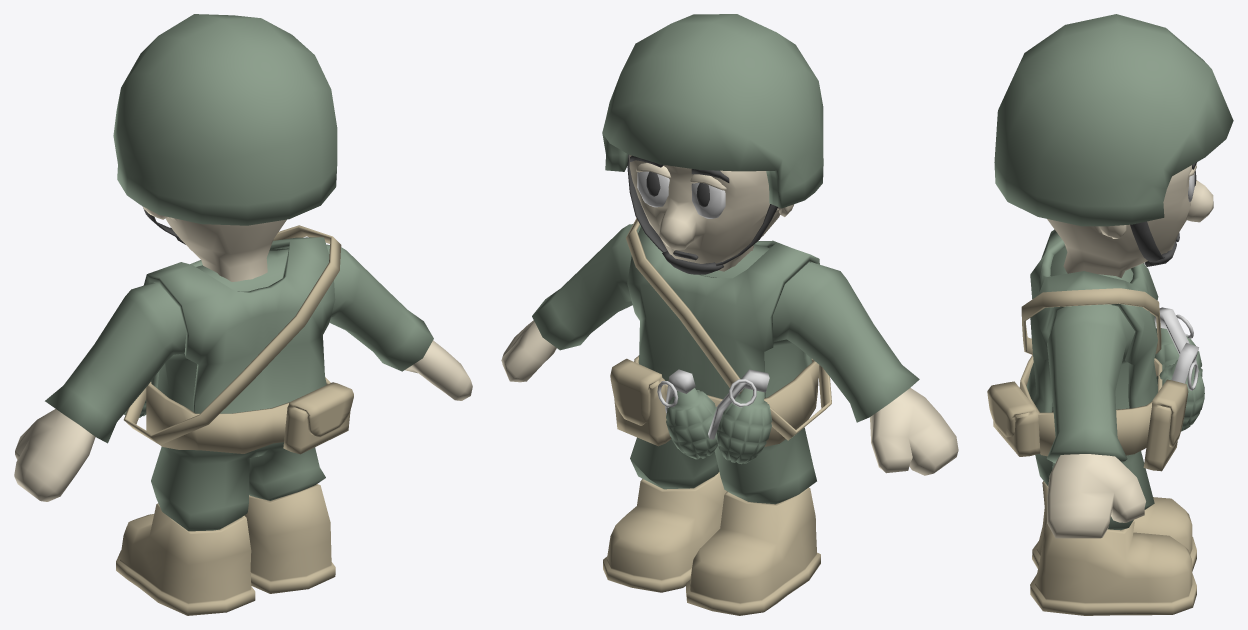
Rendered from soldier_american_inf.fbx.
3 views of the same model, side by side, from view 1: azimuth 30°, elevation 25°; view 2: azimuth 150°, elevation 25°; view 3: azimuth 270°, elevation 25° (orthographic).
Visible parts, largest first — view 1: Helmet_1_Camo_Cloth; view 2: Helmet_1_Camo_Cloth; view 3: Helmet_1_Camo_Cloth.
Part boxes in pixels (box(x1,y1,x2,y2)): Helmet_1_Camo_Cloth: box(14, 14, 472, 615); Helmet_1_Camo_Cloth: box(501, 14, 958, 615); Helmet_1_Camo_Cloth: box(987, 14, 1233, 615).
Size of the model in its own units: 49.18 by 58.65 by 23.6.
